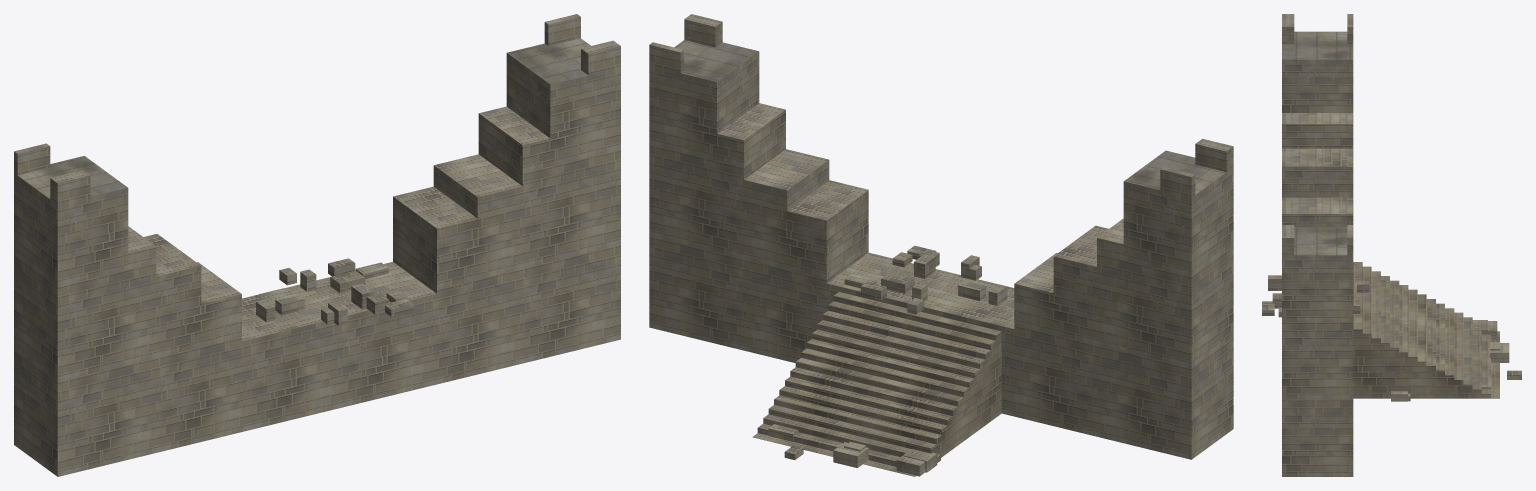
File: fort-wall-breach.fort-v2.lod0.glb
3 renders of one model, left to right at view 1: azimuth 30°, elevation 25°; view 2: azimuth 150°, elevation 25°; view 3: azimuth 270°, elevation 25°, orthographic. The views are drawn at different scales.
Visible parts, largest first — view 1: fort-wall-breach; view 2: fort-wall-breach; view 3: fort-wall-breach.
Boxes of the visible parts, left/top/right/bottom form: fort-wall-breach: left=14, top=14, right=620, bottom=476; fort-wall-breach: left=649, top=14, right=1233, bottom=476; fort-wall-breach: left=1262, top=14, right=1521, bottom=476.
Bounding box in the file's own units: 26 × 12.95 × 12.75.
2 materials, 2 textured.
